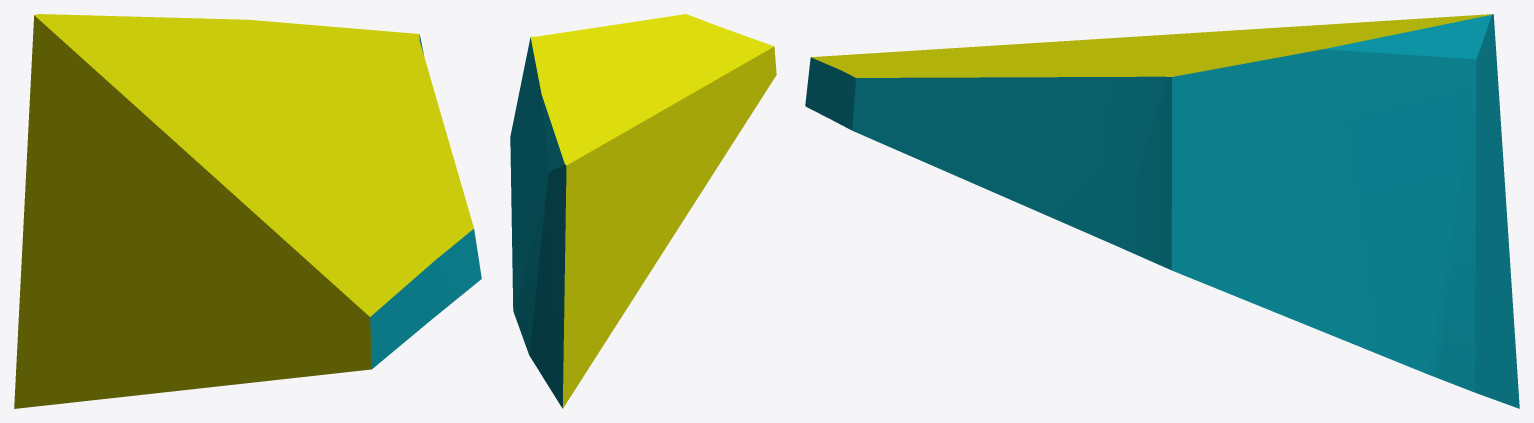
3 views of the same model, side by side, from view 1: azimuth 30°, elevation 25°; view 2: azimuth 150°, elevation 25°; view 3: azimuth 270°, elevation 25° (orthographic). The views are drawn at different scales.
Visible parts, largest first — view 1: polySurface24; view 2: polySurface24; view 3: polySurface24.
Part boxes in pixels (x1,y1,x2,y2): polySurface24: (14,14,481,408); polySurface24: (510,14,776,408); polySurface24: (805,14,1519,408).
Bounding box in the file's own units: 0.1553 × 0.2483 × 0.3628.
